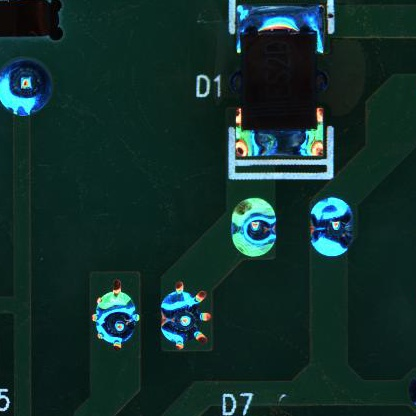spot: (88, 278, 144, 354), (159, 280, 212, 350), (1, 54, 55, 119), (229, 197, 278, 257), (310, 196, 354, 259)
